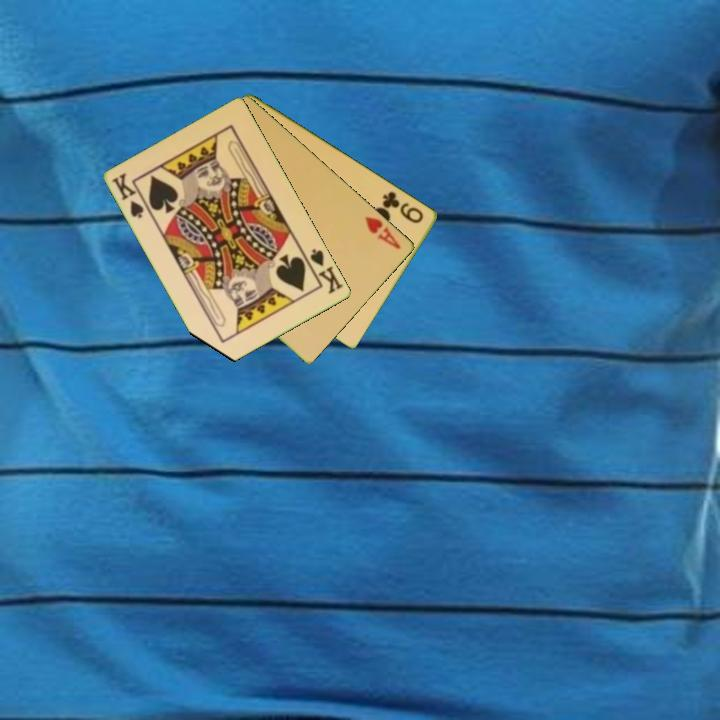9c: (379, 188, 427, 226)
Ah: (362, 213, 404, 252)
Ks: (307, 245, 347, 297), (109, 169, 147, 221)
